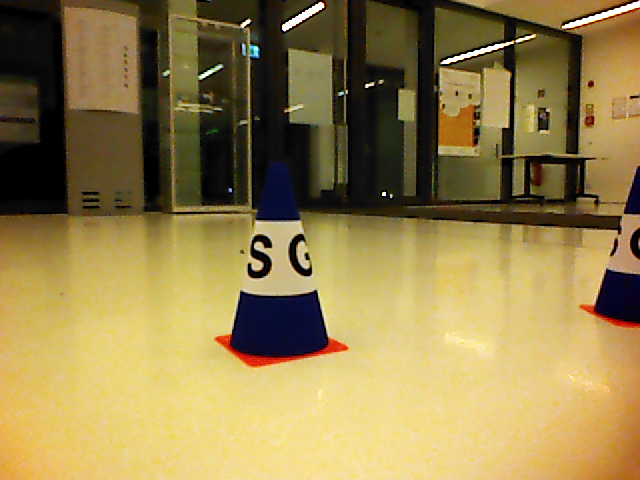bluecone: (230, 161, 330, 360)
